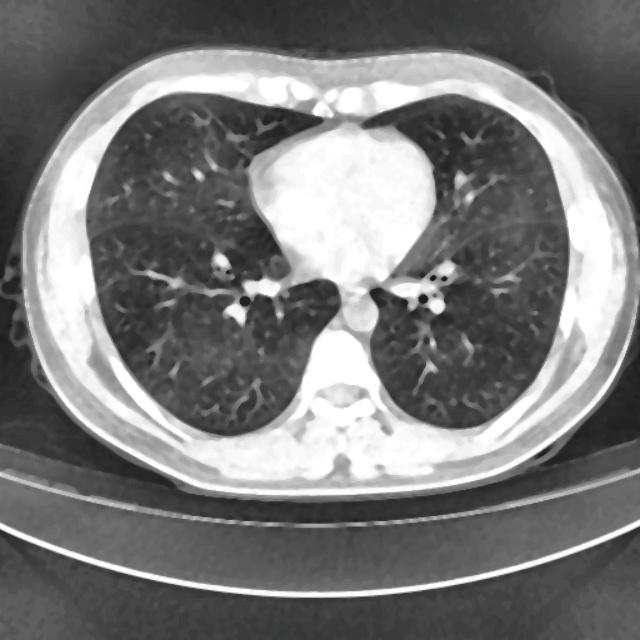covid: (7, 43, 637, 501)
